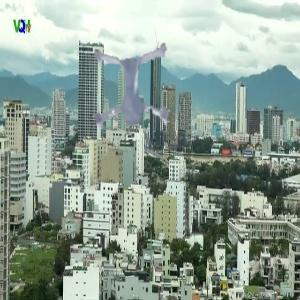drone: (71, 39, 196, 164)
